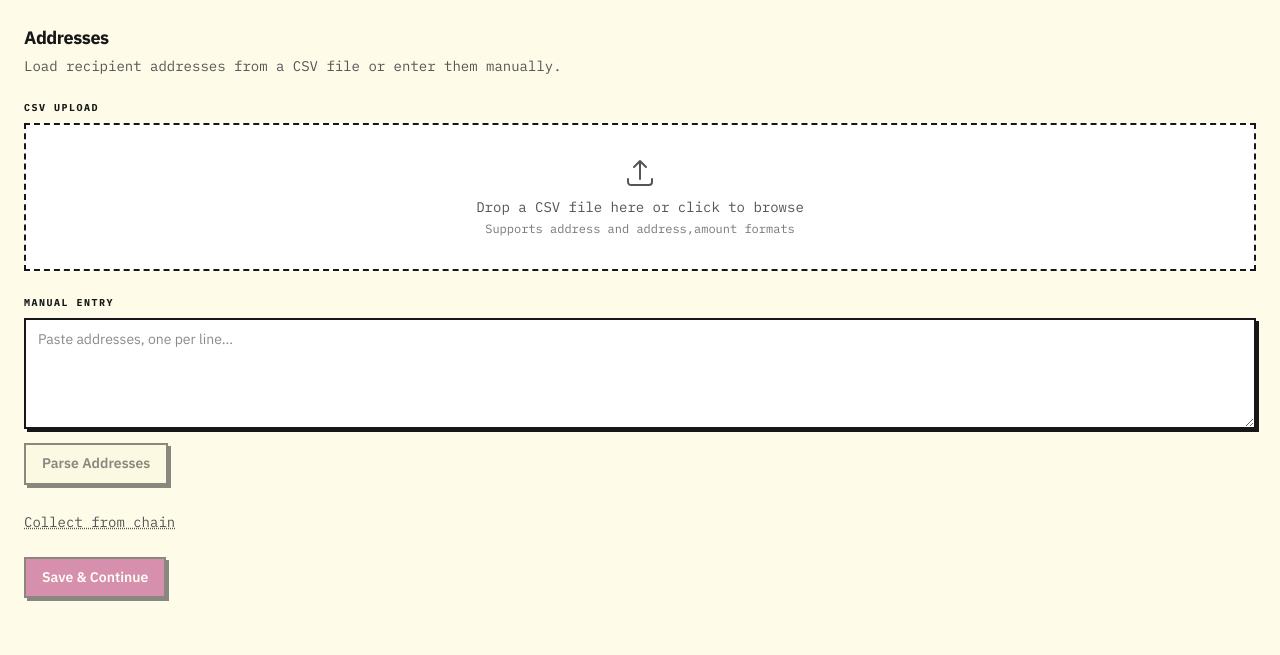
AddressesStep › shows error when pipeline yields no addresses
The width and height of the screenshot is (1280, 655).
Click the button "Collect from chain" at (100, 522), box x1=24 y1=512 x2=175 y2=532
(page scrolled)
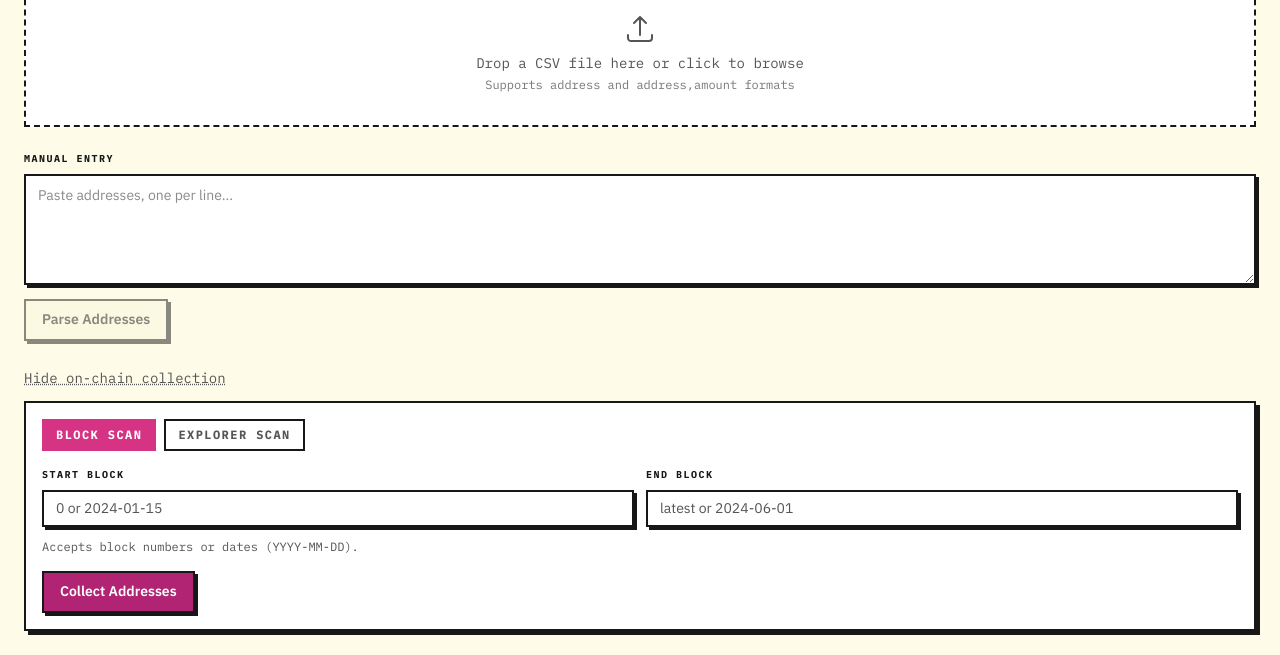
Click the button "Collect Addresses" at (118, 592), box x1=42 y1=571 x2=195 y2=612
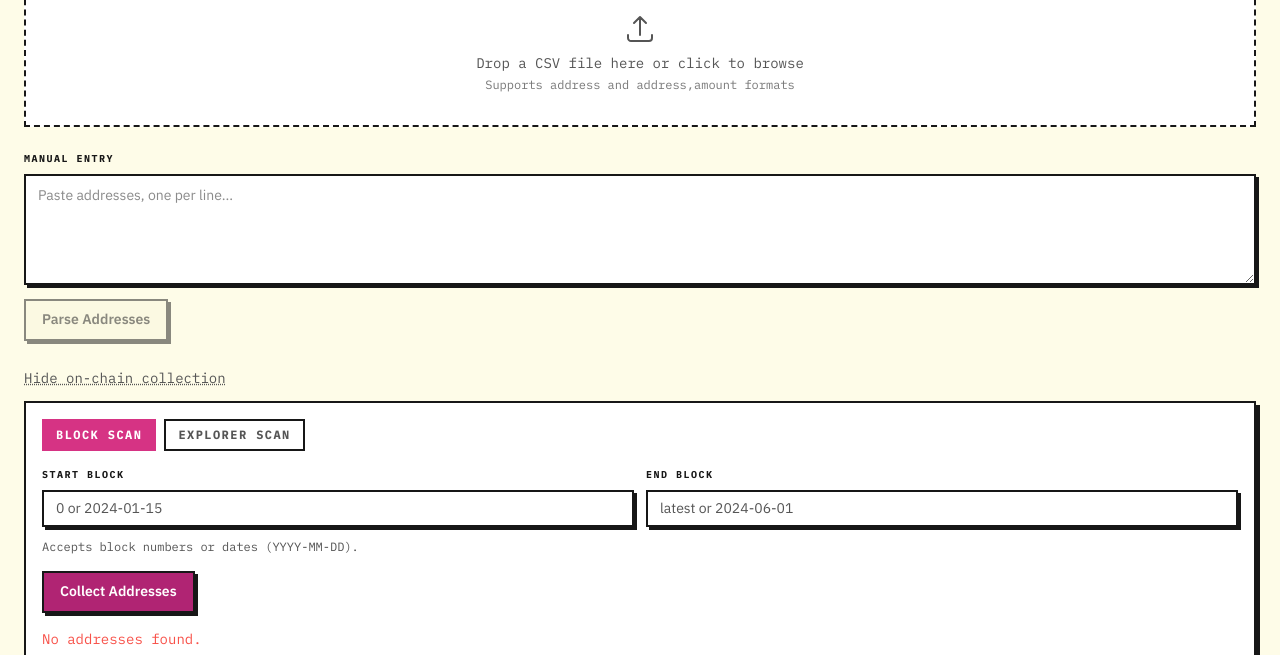
Expected: the text "No addresses found." is shown, x1=42 y1=630 x2=202 y2=648
